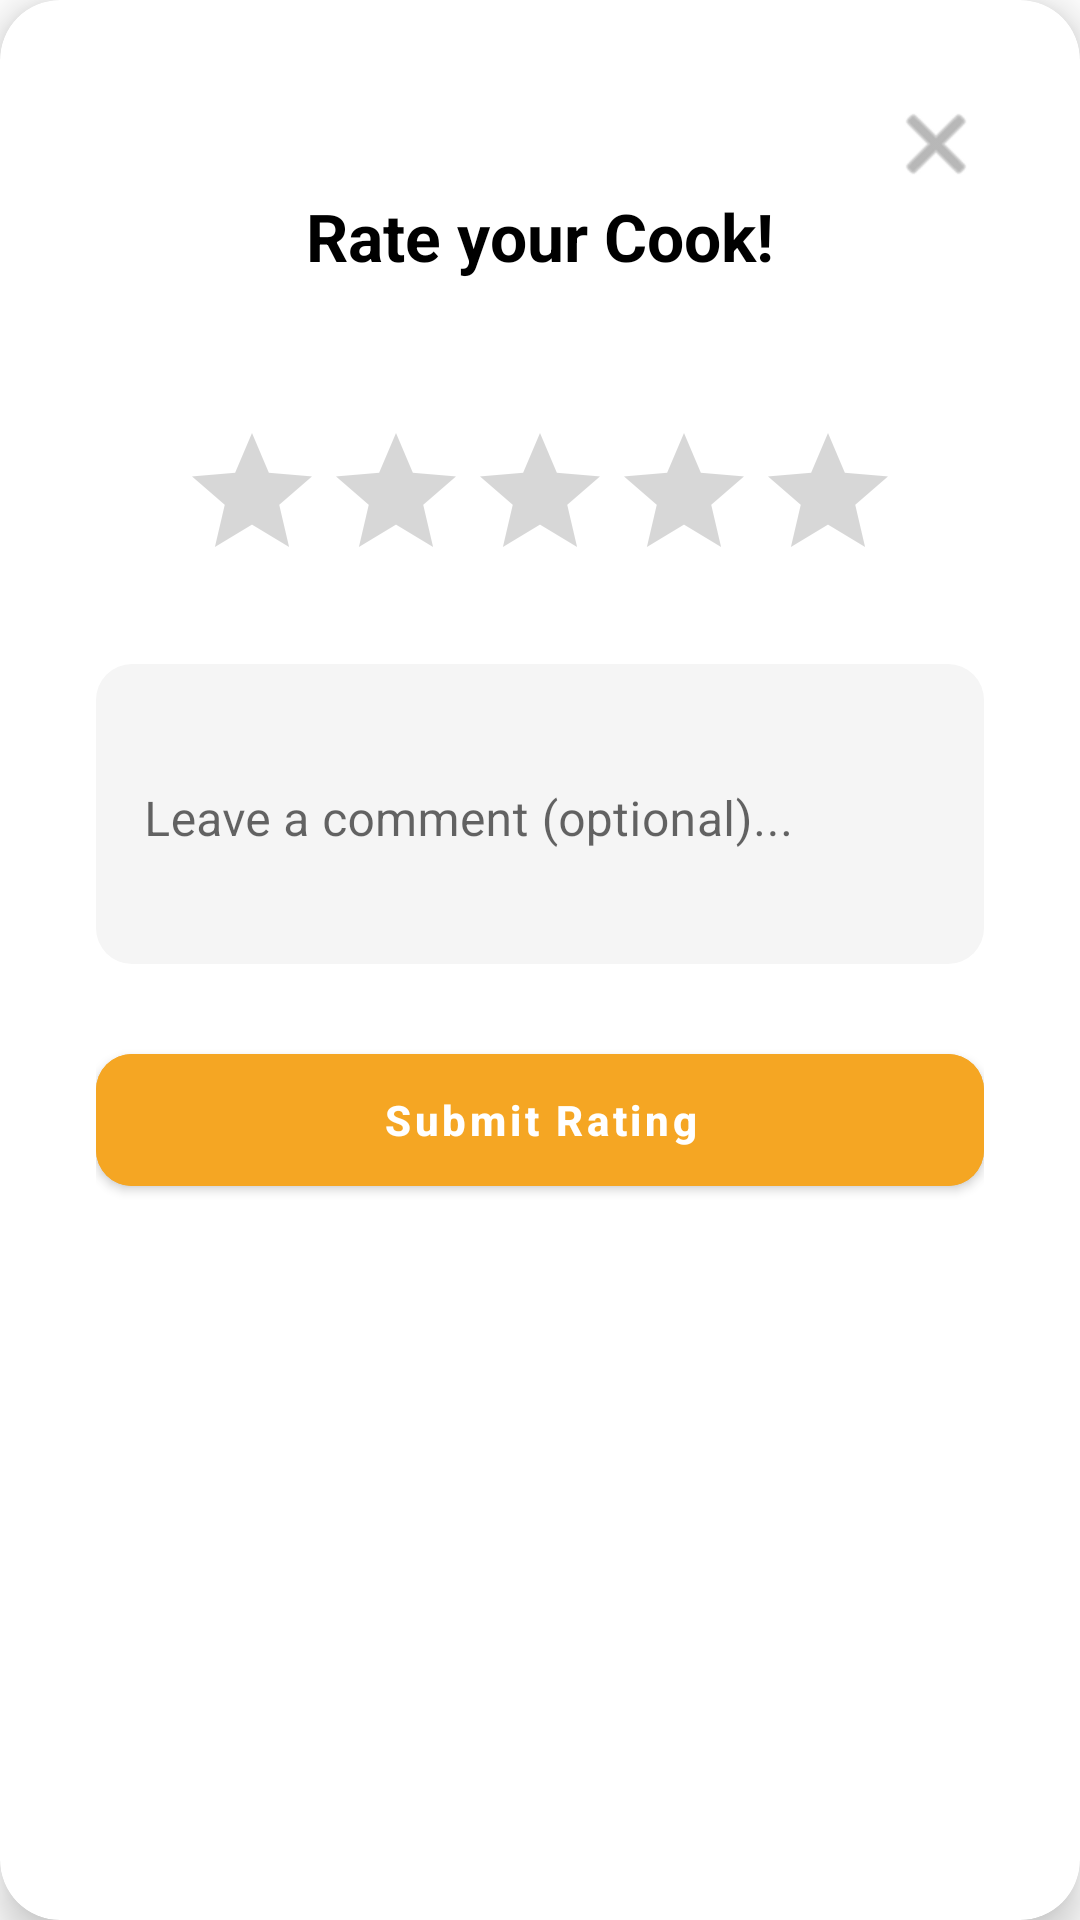

Locate icon controls on the screen. Image size 1080 x 1920, boxes as bbox=(x1, y1, x2, y2).
close clear cancel: bbox=(907, 115, 965, 173)
